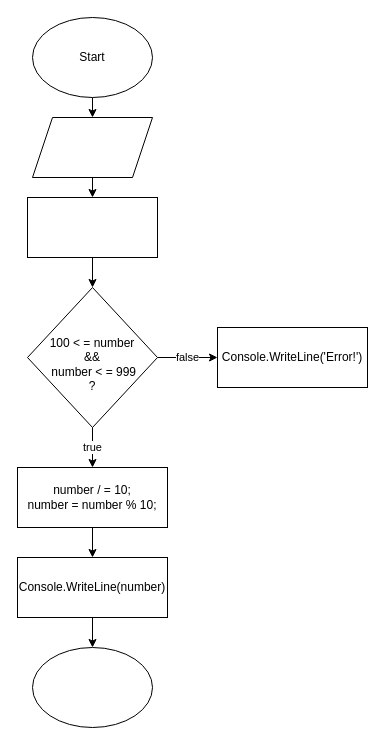
Image size: 385x745. Some labels were removed from this diagram. The box of each missing label's shape, as (x1, y1, x2, y2) in pixels:
End: (32, 646, 152, 728)
input number: (32, 116, 152, 178)
int number = Convert.ToInt32 (Console.ReadLine): (26, 196, 158, 258)
